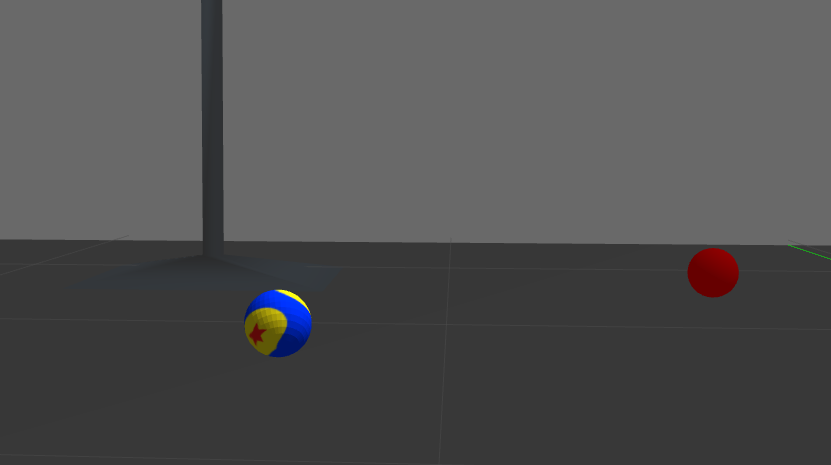toy story ball: (245, 288, 312, 357)
